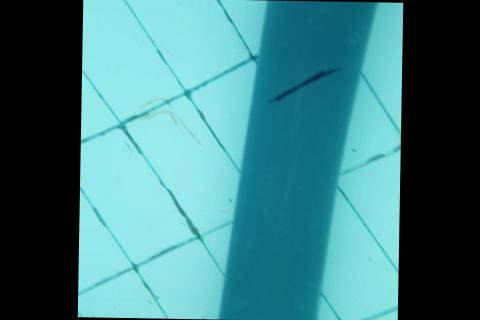keretakan: (268, 65, 341, 104)
